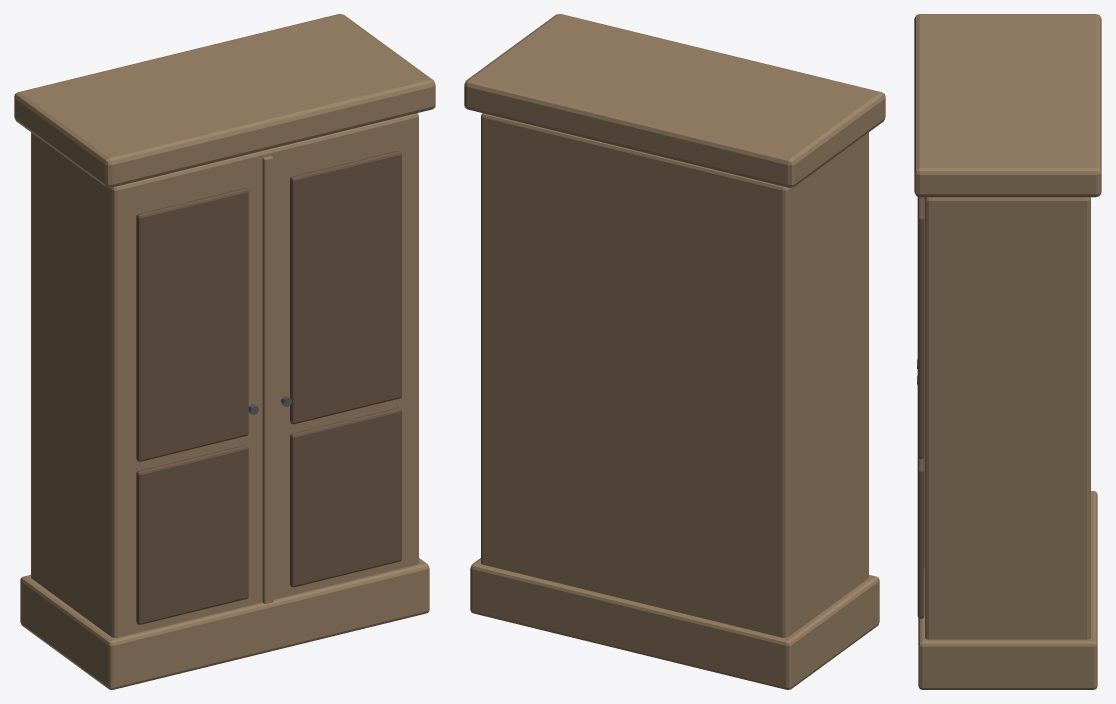
3 renders of one model, left to right at view 1: azimuth 30°, elevation 25°; view 2: azimuth 150°, elevation 25°; view 3: azimuth 270°, elevation 25°, orthographic.
Visible parts, largest first — view 1: wardrobe; view 2: wardrobe; view 3: wardrobe.
Boxes of the visible parts, x1=… form: wardrobe: x1=14, y1=14, x2=435, y2=689; wardrobe: x1=464, y1=14, x2=885, y2=689; wardrobe: x1=914, y1=14, x2=1101, y2=689.
Bounding box in the file's own units: 1.4 × 2.16 × 0.7.
